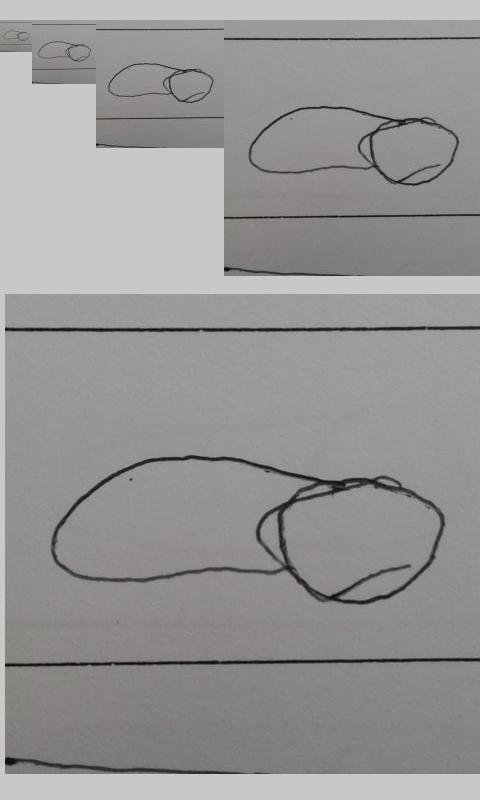switch: (51, 454, 446, 605), (248, 105, 461, 186), (107, 63, 214, 104), (37, 40, 91, 62), (2, 29, 30, 42)
